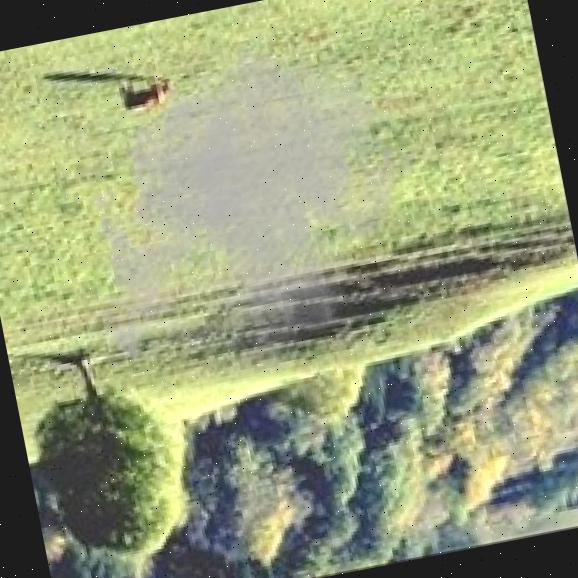smoke: (41, 0, 459, 426)
